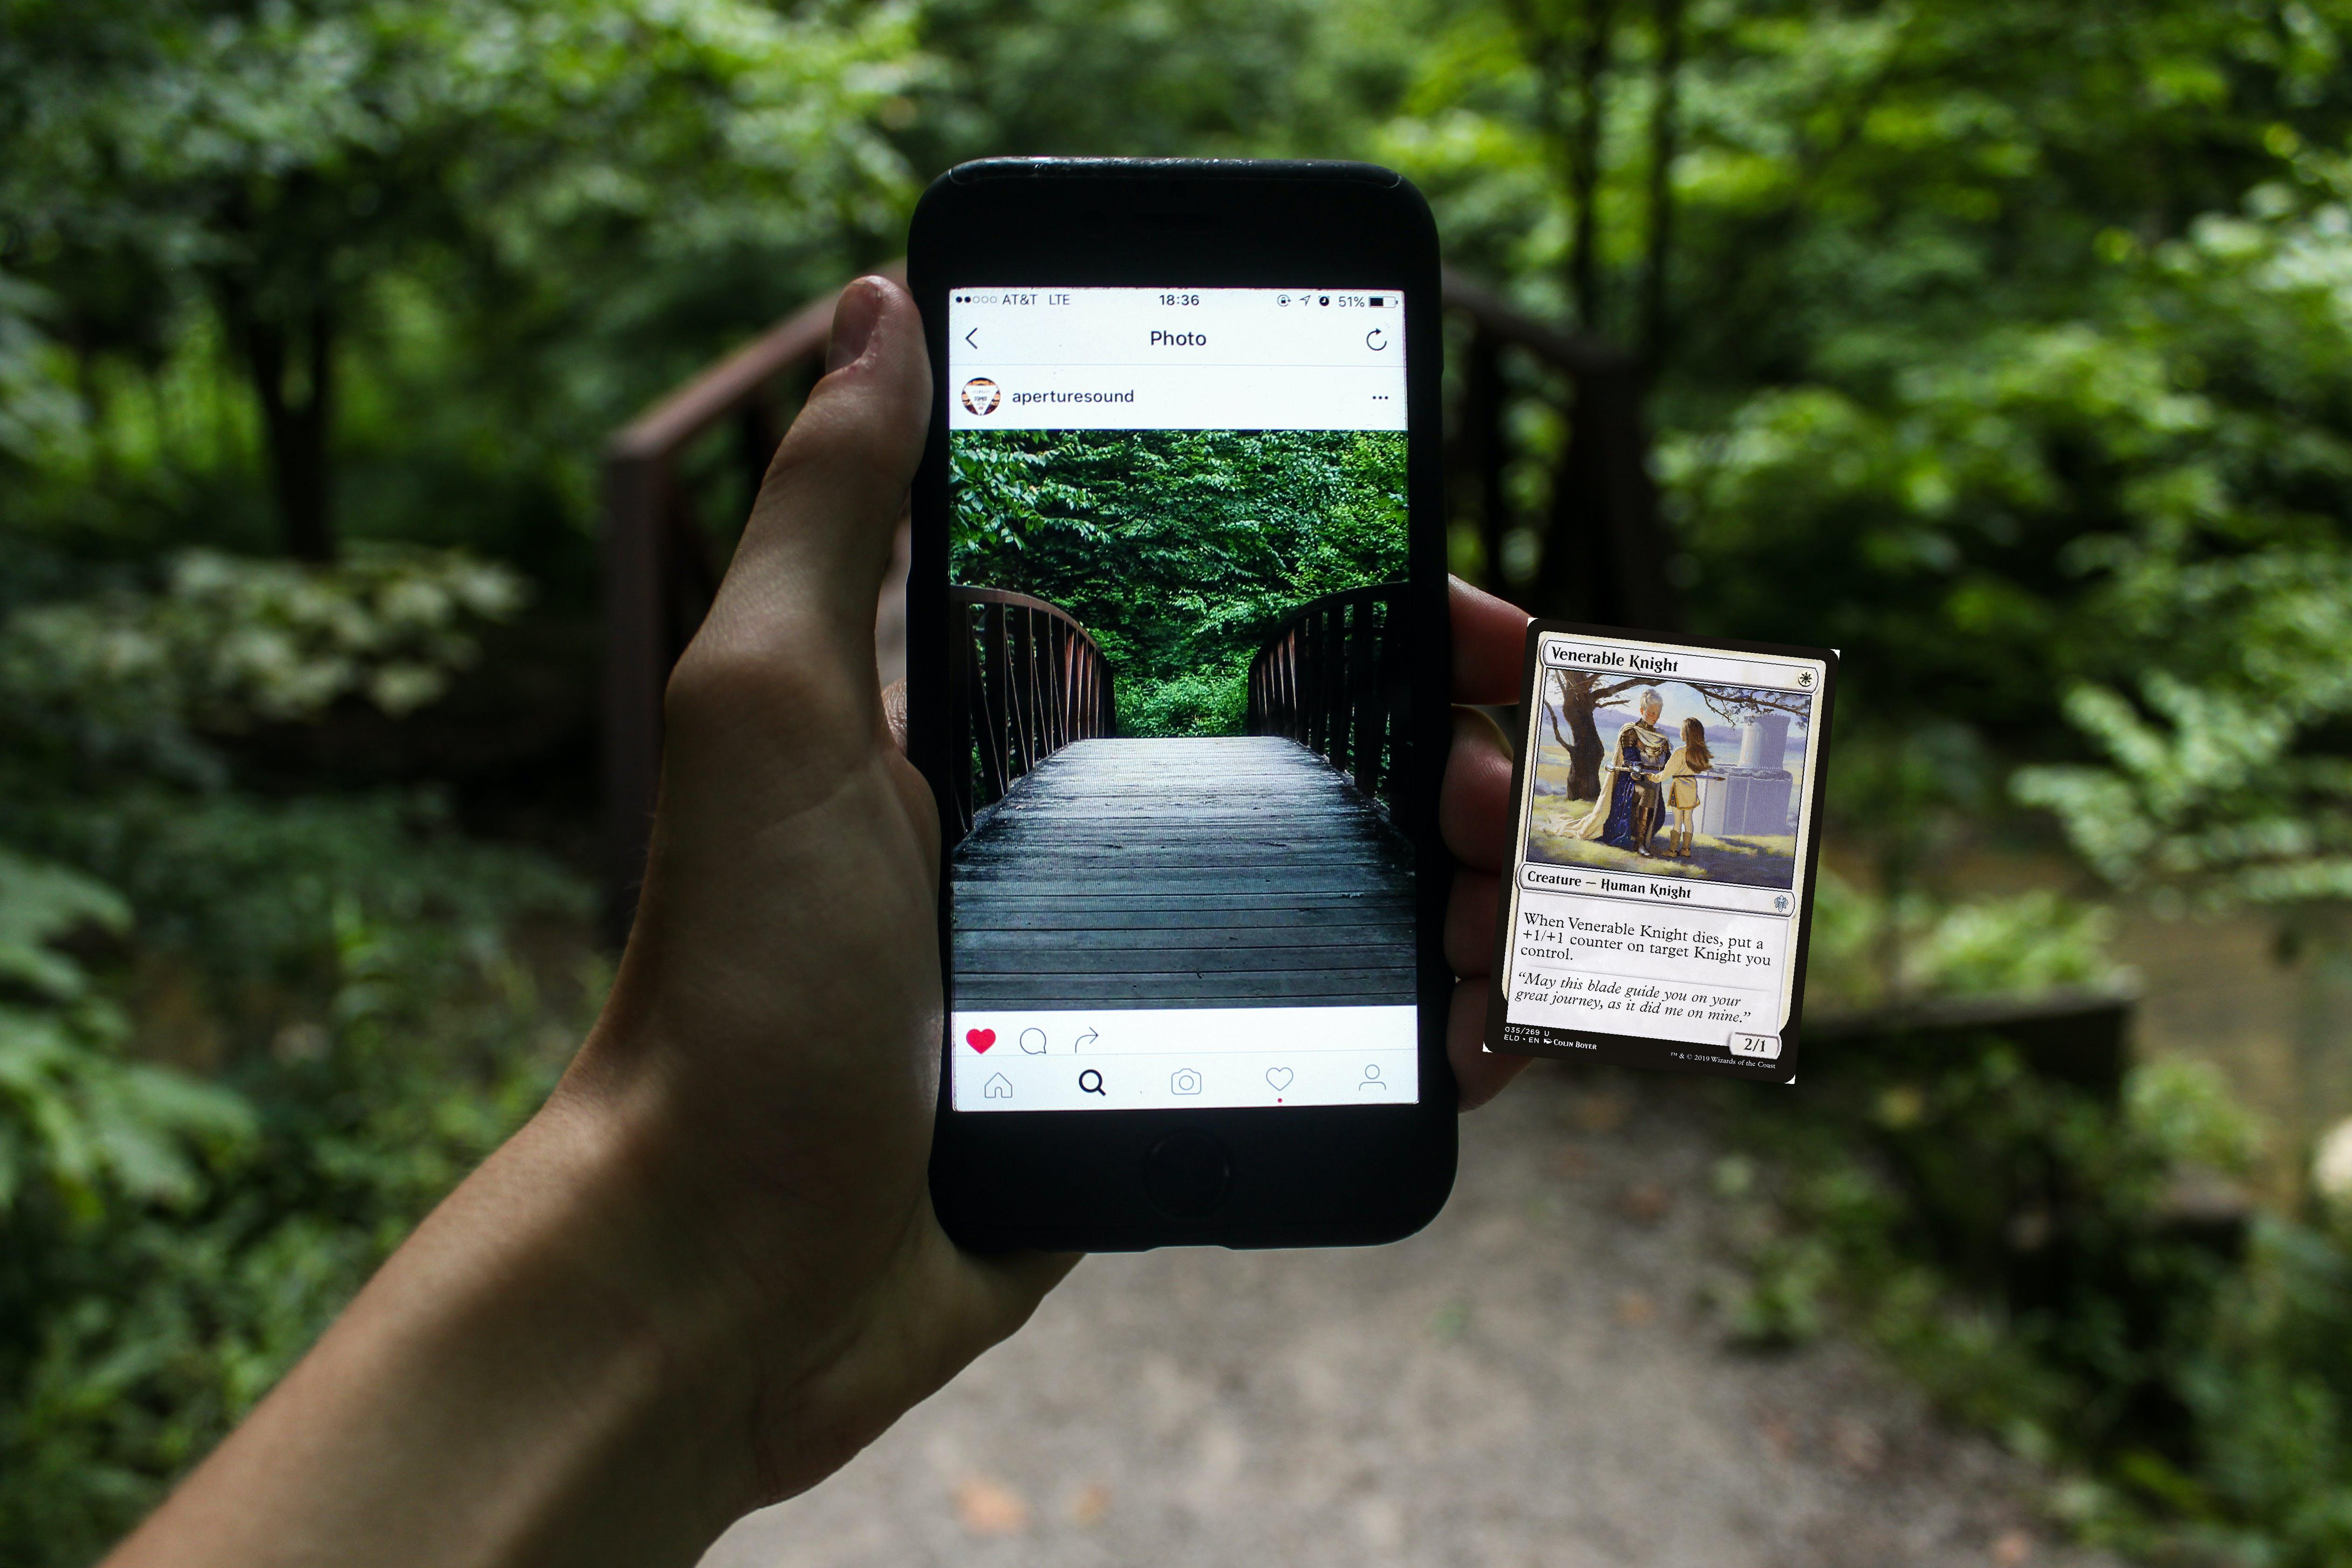mtgCard: (1482, 618, 1841, 1085)
